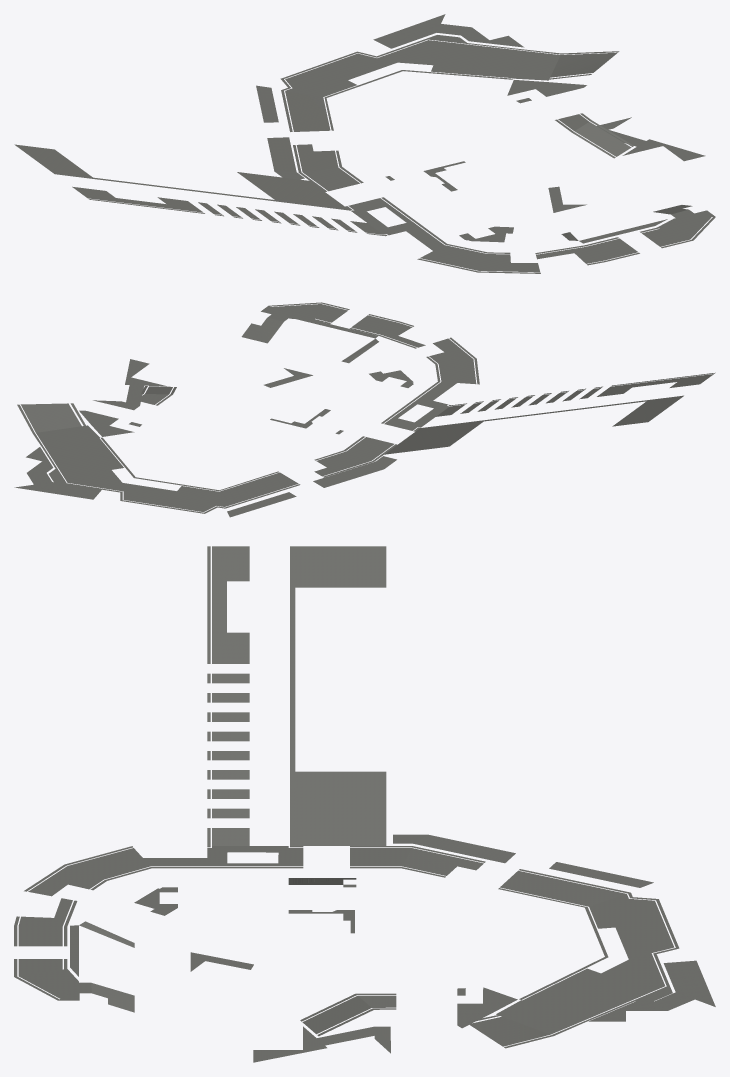
Rendered from kd_connection_town-ground_surface_1_5.glb.
3 renders of one model, top to bottom at view 1: azimuth 30°, elevation 25°; view 2: azimuth 150°, elevation 25°; view 3: azimuth 270°, elevation 25°, orthographic. The views are drawn at different scales.
Visible parts, largest first — view 1: kd_connection_town-ground_surface_1_5; view 2: kd_connection_town-ground_surface_1_5; view 3: kd_connection_town-ground_surface_1_5.
Boxes of the visible parts, x1=… form: kd_connection_town-ground_surface_1_5: x1=14, y1=14, x2=715, y2=273; kd_connection_town-ground_surface_1_5: x1=14, y1=302, x2=715, y2=517; kd_connection_town-ground_surface_1_5: x1=14, y1=546, x2=715, y2=1062.
Size of the model in its own units: 68.91 by 12.6 by 53.88.
1 material, 1 textured.
